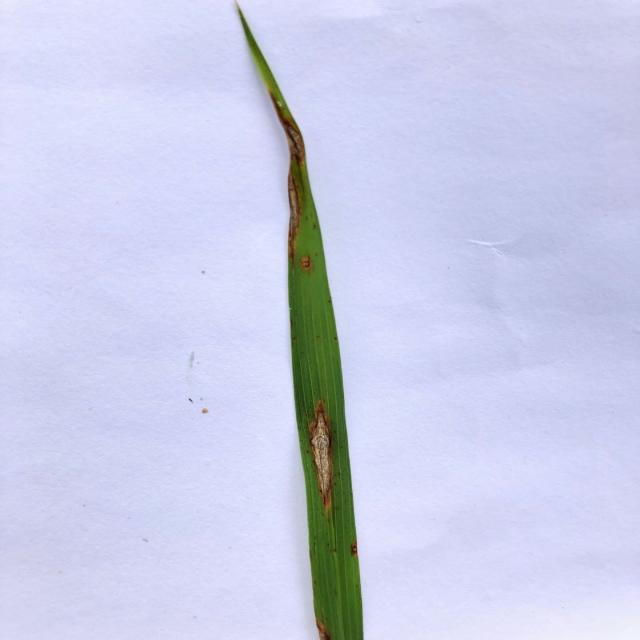leaf blast: (307, 400, 337, 517), (285, 176, 302, 262), (282, 116, 302, 169), (314, 623, 334, 640), (349, 543, 358, 558)
